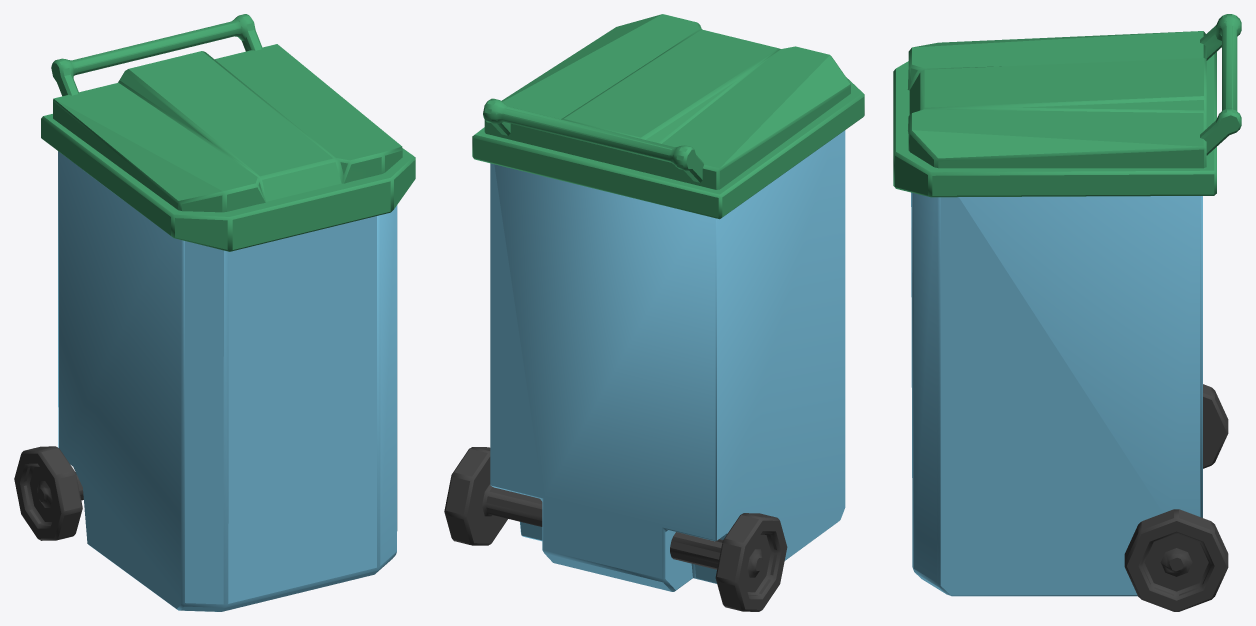
Rendered from trushbin.fbx.
The picture shows the model from 3 angles, left to right: view 1: azimuth 30°, elevation 25°; view 2: azimuth 150°, elevation 25°; view 3: azimuth 270°, elevation 25°; orthographic projection. The views are drawn at different scales.
Visible parts, largest first — view 1: trushBin; view 2: trushBin; view 3: trushBin.
Boxes of the visible parts, x1,y1,x2,y2 form: trushBin: [14, 14, 415, 611]; trushBin: [444, 14, 864, 611]; trushBin: [893, 14, 1241, 611].
Size of the model in its own units: 105 by 161 by 106.
